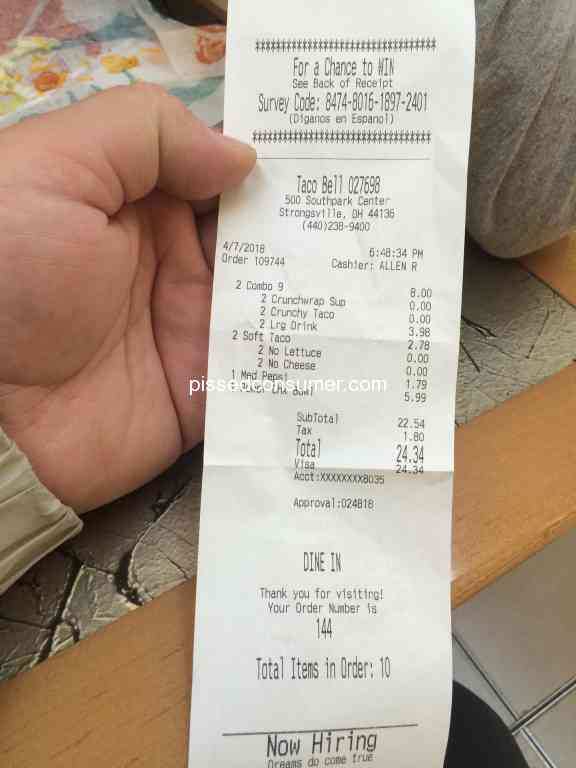Taco Bell: (286, 165, 345, 196)
